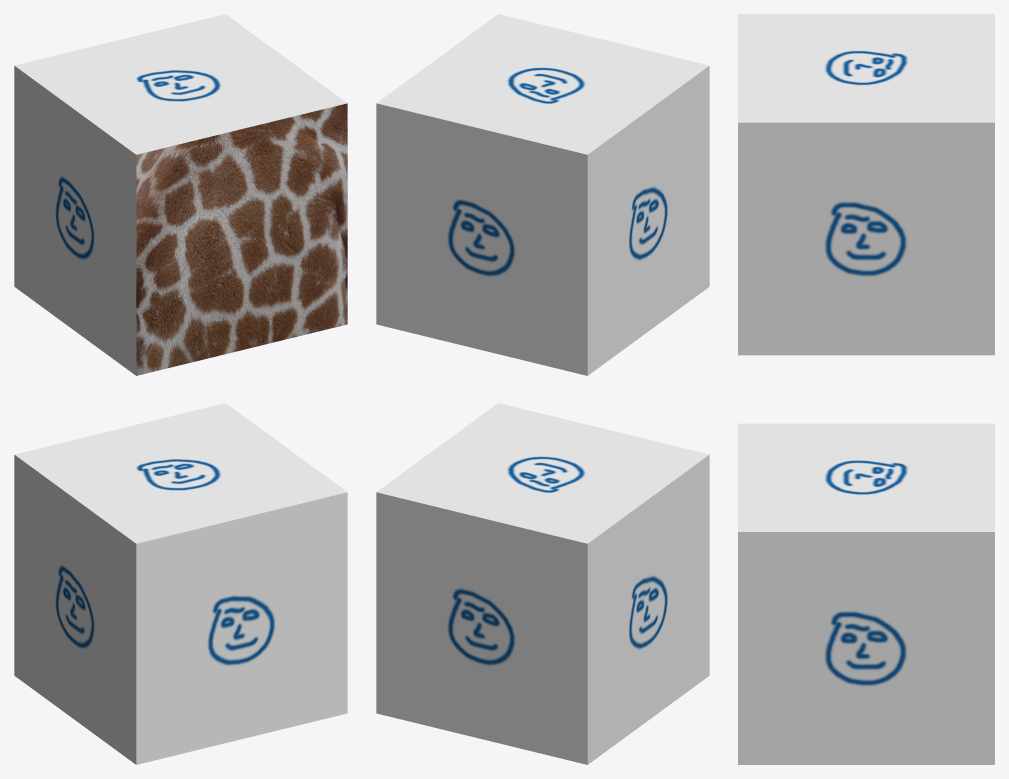
3 views of the same model, side by side, from view 1: azimuth 30°, elevation 25°; view 2: azimuth 150°, elevation 25°; view 3: azimuth 270°, elevation 25° (orthographic). The views are drawn at different scales.
Parts seen in each view (by area): view 1: Box001, Box002; view 2: Box001, Box002; view 3: Box001, Box002.
Part boxes in pixels (bbox=[...]): Box001: bbox=[14, 403, 347, 764]; Box002: bbox=[14, 14, 347, 375]; Box001: bbox=[376, 403, 709, 764]; Box002: bbox=[376, 14, 709, 375]; Box001: bbox=[738, 423, 994, 764]; Box002: bbox=[738, 14, 994, 355].
Bounding box in the file's own units: 1.02 × 1.02 × 2.8.
